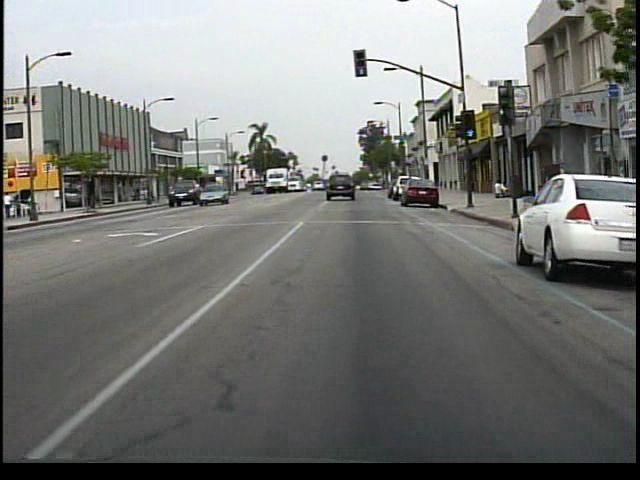person: (3, 189, 21, 223), (487, 177, 504, 201)
